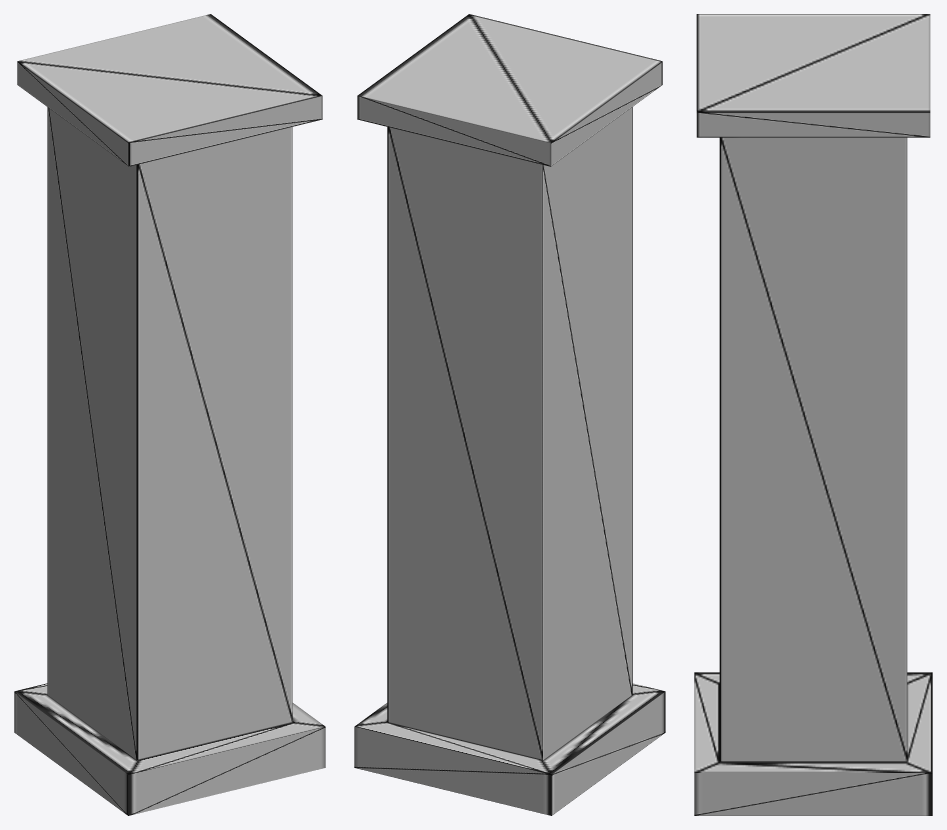
The model's file is column.obj.
3 views of the same model, side by side, from view 1: azimuth 30°, elevation 25°; view 2: azimuth 150°, elevation 25°; view 3: azimuth 270°, elevation 25° (orthographic). The views are drawn at different scales.
Parts seen in each view (by area): view 1: Cube.001; view 2: Cube.001; view 3: Cube.001.
Part boxes in pixels (x1,y1,x2,y2): Cube.001: (14,14,325,815); Cube.001: (354,14,665,815); Cube.001: (694,14,932,815).
Bounding box in the file's own units: 2 × 6.51 × 2.
Materials: 1 (1 with a texture image).
